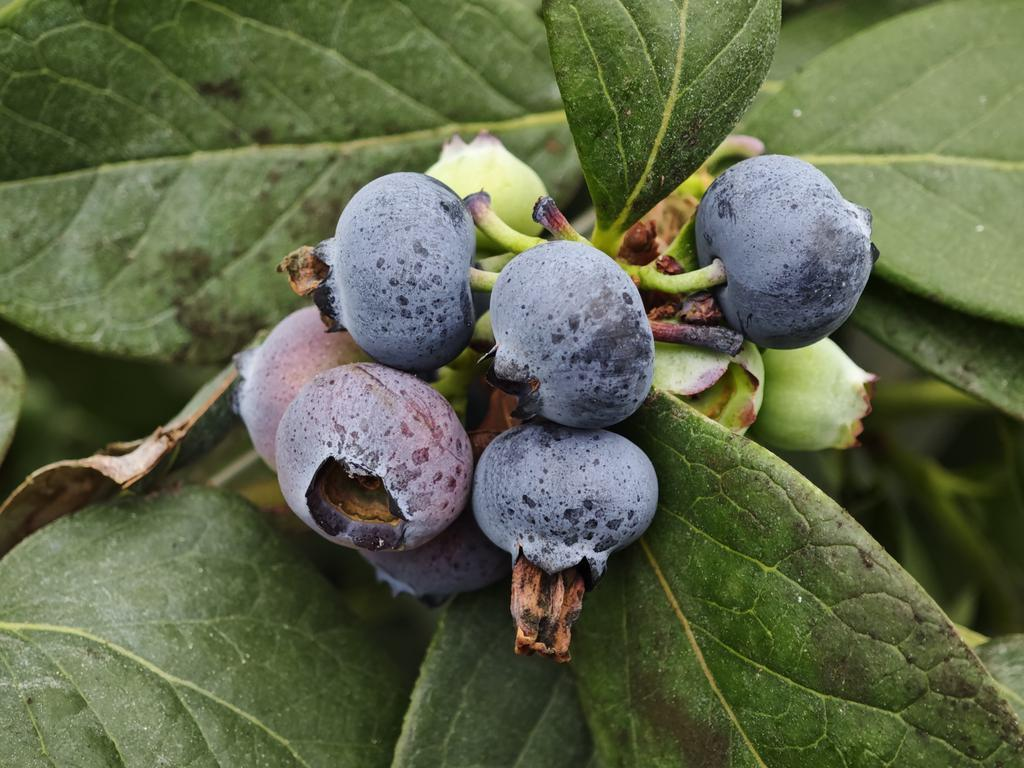RipeBlueBerry: (695, 153, 878, 352), (310, 167, 481, 370), (488, 239, 658, 432), (474, 429, 661, 593)
Semi-RipeBlueBerry: (272, 363, 473, 559)
